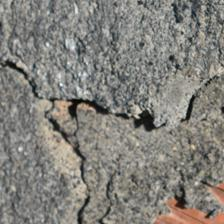Crack: (6, 56, 148, 123), (41, 100, 90, 161), (71, 160, 100, 224)
